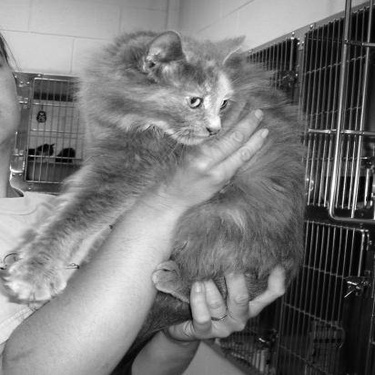cat: (5, 29, 312, 300)
